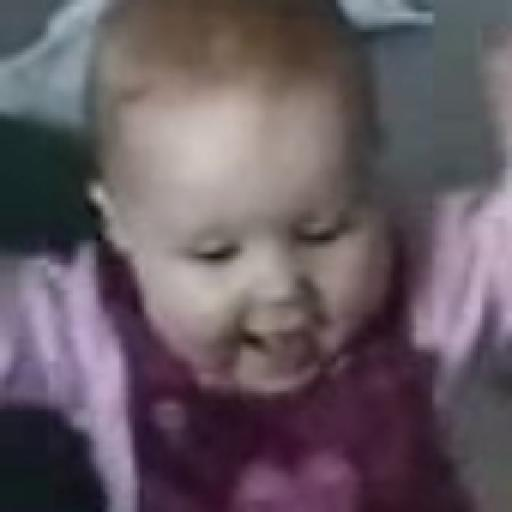Autism: (64, 0, 424, 415)
